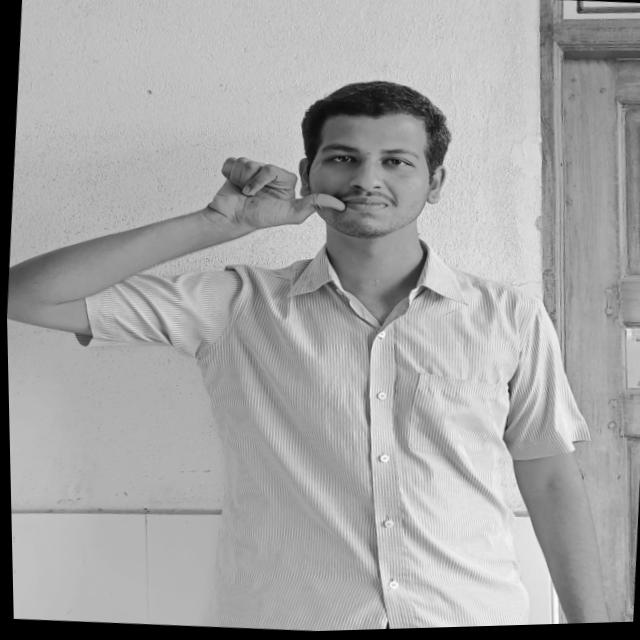Drink: (197, 150, 354, 238)
